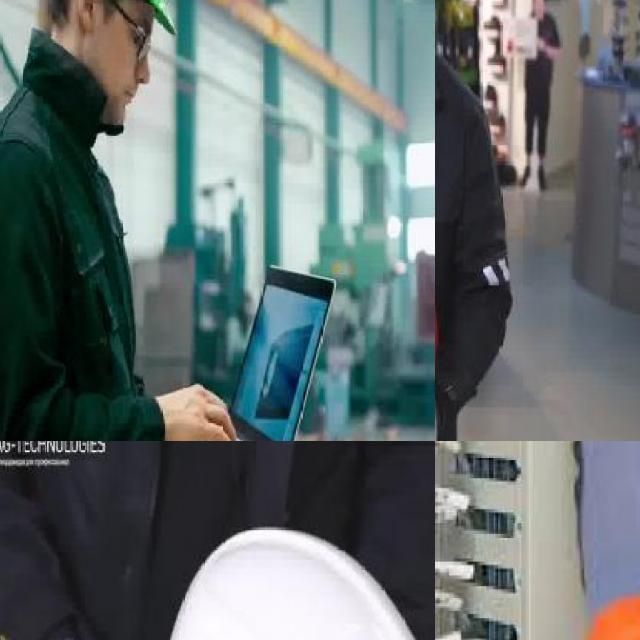apron: (576, 441, 640, 623)
